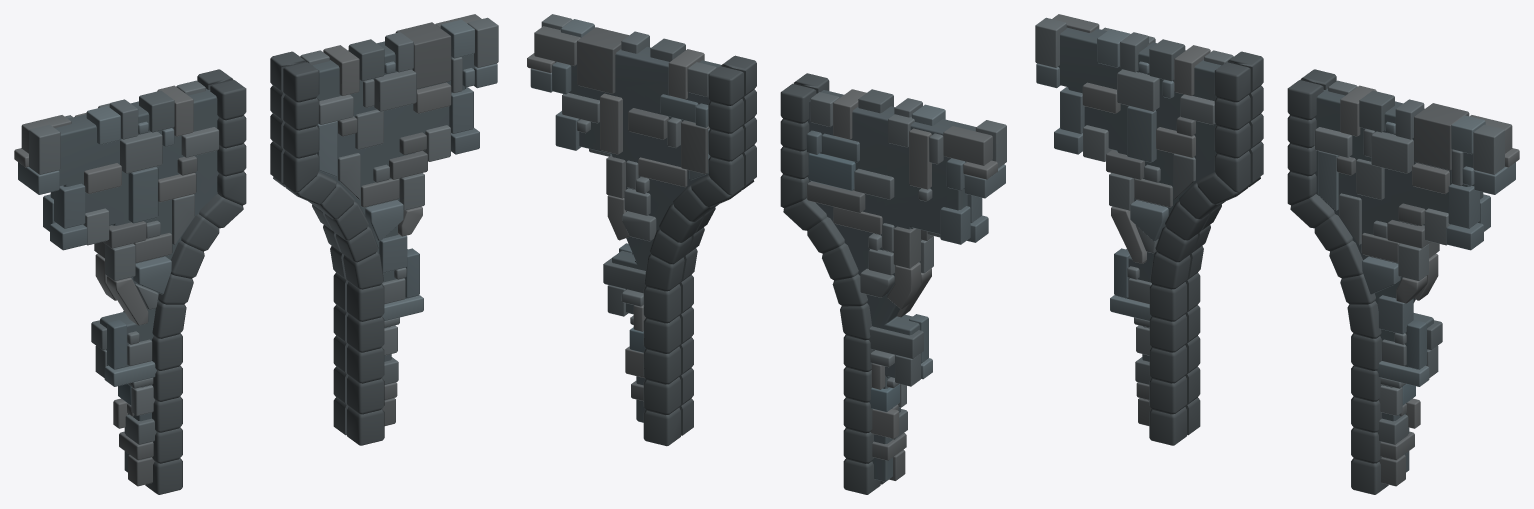
Rendered from gate_001.glb.
3 renders of one model, left to right at view 1: azimuth 30°, elevation 25°; view 2: azimuth 150°, elevation 25°; view 3: azimuth 330°, elevation 25°, orthographic.
Parts seen in each view (by area): view 1: gate_001; view 2: gate_001; view 3: gate_001.
Boxes of the visible parts, x1,y1,x2,y2 form: gate_001: (14,14,498,494); gate_001: (527,14,1006,494); gate_001: (1035,14,1519,494).
Bounding box in the file's own units: 34.2 × 27.32 × 3.5.
Materials: 2 (2 with a texture image).
